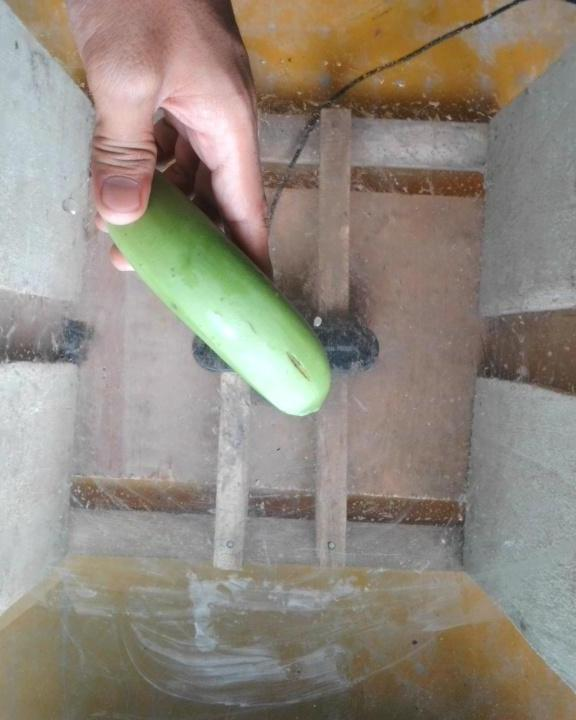CLASS B: (97, 156, 350, 430)
Class A: (282, 347, 317, 390)
